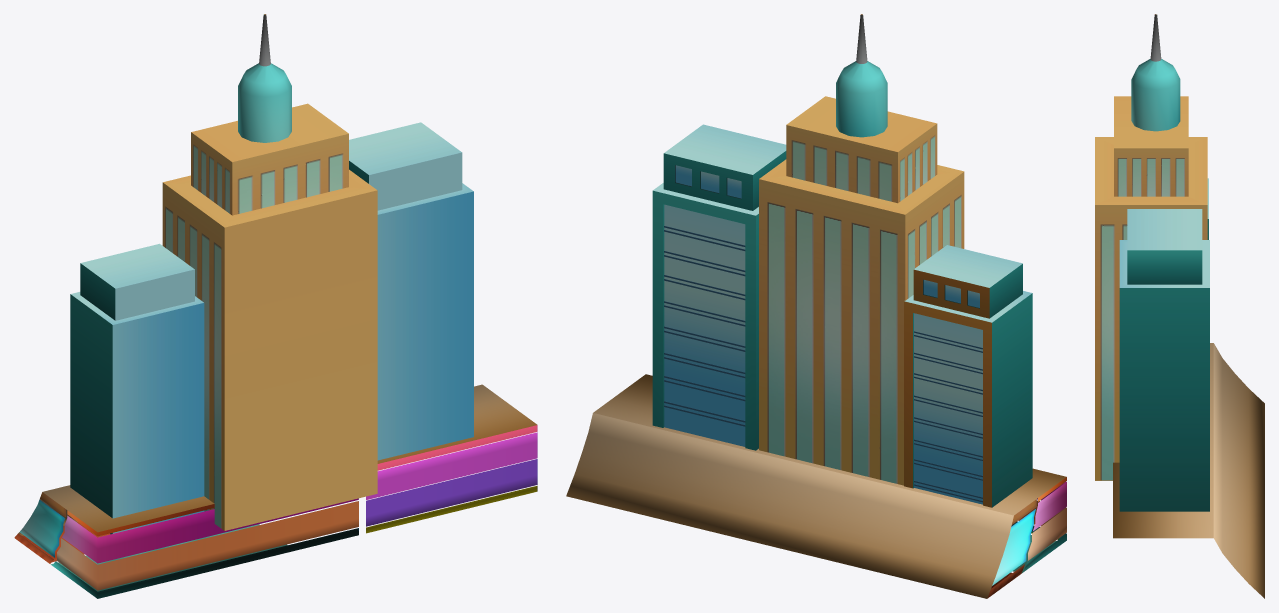
Rendered from wall buiding.fbx.
3 renders of one model, left to right at view 1: azimuth 30°, elevation 25°; view 2: azimuth 150°, elevation 25°; view 3: azimuth 270°, elevation 25°, orthographic. The views are drawn at different scales.
Visible parts, largest first — view 1: Cube.297, Cube.296, Cube.299, Cube.298, Cylinder.039; view 2: Cube.297, Cube.296, Cube.298, Cube.299, Cylinder.039; view 3: Cube.298, Cube.297, Cube.296, Cylinder.039.
Boxes of the visible parts, x1=… form: Cube.297: x1=162, y1=103, x2=377, y2=530; Cube.296: x1=14, y1=384, x2=537, y2=598; Cube.299: x1=70, y1=243, x2=204, y2=534; Cube.298: x1=349, y1=122, x2=473, y2=460; Cylinder.039: x1=238, y1=14, x2=291, y2=142; Cube.297: x1=759, y1=96, x2=964, y2=485; Cube.296: x1=566, y1=374, x2=1066, y2=598; Cube.298: x1=652, y1=124, x2=786, y2=450; Cube.299: x1=904, y1=245, x2=1032, y2=507; Cylinder.039: x1=836, y1=14, x2=887, y2=137; Cube.298: x1=1119, y1=209, x2=1209, y2=511; Cube.297: x1=1095, y1=96, x2=1207, y2=480; Cube.296: x1=1113, y1=343, x2=1264, y2=598; Cylinder.039: x1=1131, y1=14, x2=1180, y2=131.
Bounding box in the file's own units: 4888 × 5524 × 1796.
